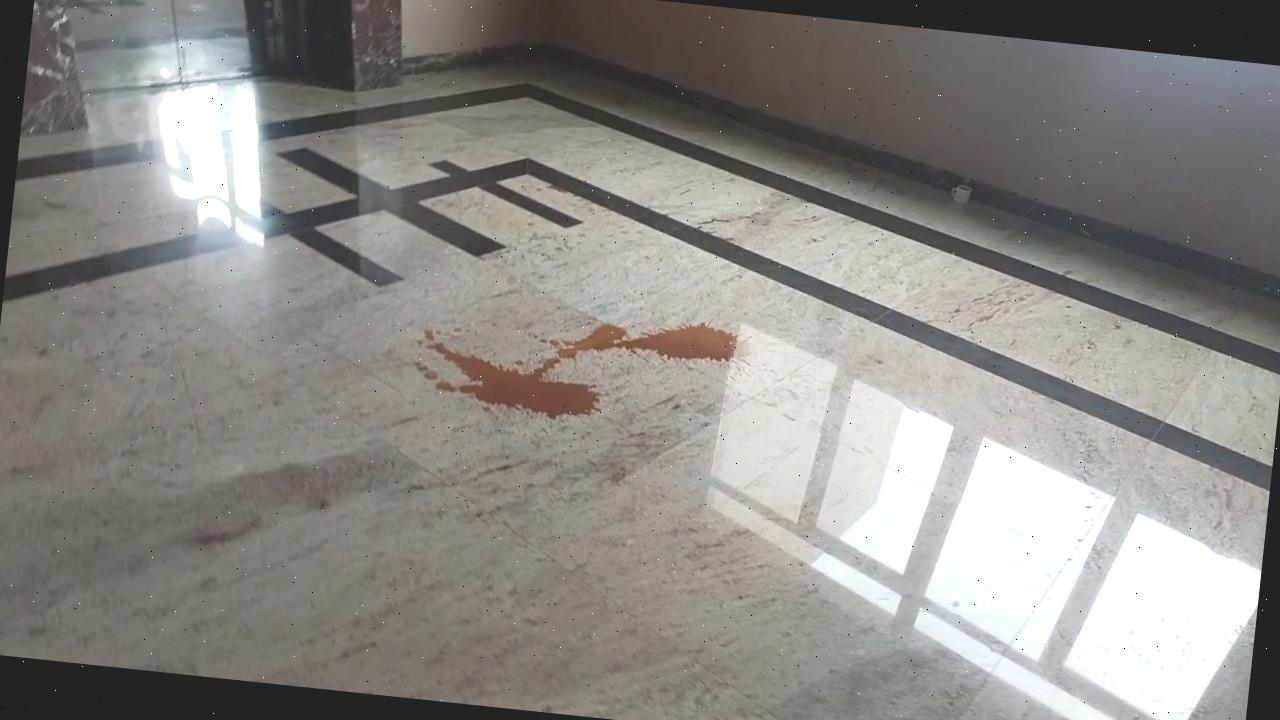dirty_floor: (409, 289, 748, 440)
